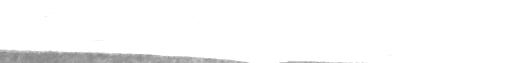letter: (169, 11, 195, 48), (446, 20, 476, 51), (0, 9, 28, 42), (392, 17, 420, 50), (30, 9, 56, 44), (85, 10, 111, 45), (198, 13, 224, 48), (224, 13, 250, 48), (252, 14, 278, 49), (308, 14, 334, 49), (336, 15, 362, 50), (364, 17, 390, 52), (281, 15, 307, 48), (421, 19, 445, 54), (114, 12, 140, 43), (58, 9, 82, 42), (142, 11, 166, 44)
